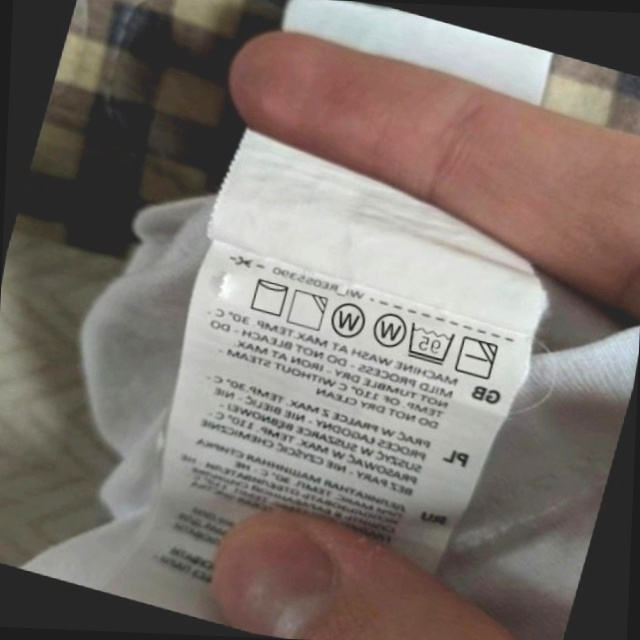95C: (400, 318, 459, 369)
dry_flat_in_shade: (452, 331, 503, 384)
line_dry: (244, 272, 294, 321)
shade_dry: (283, 285, 332, 334)
wet_clean: (324, 296, 371, 345), (366, 304, 412, 354)
